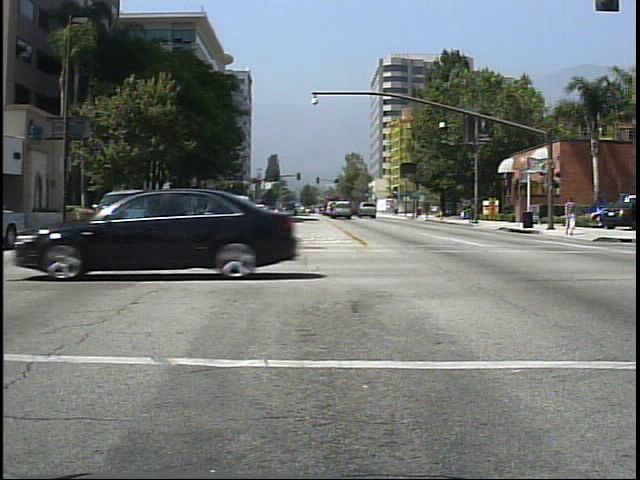person: (562, 195, 580, 239)
